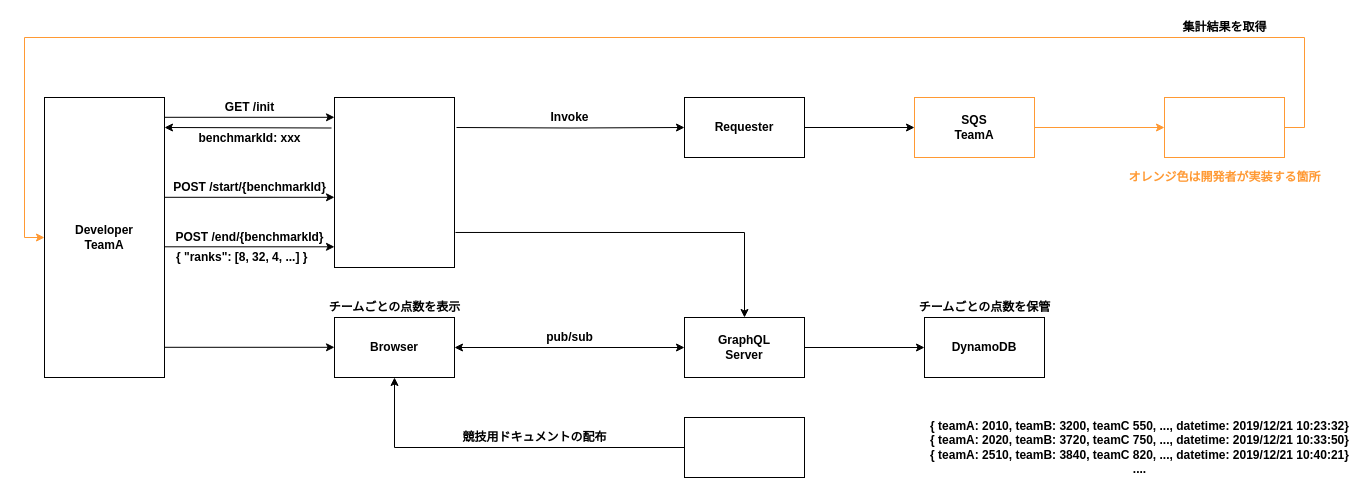
This 1372x495 diagram has some shape labels left out. Here are the shapes that lost their labels. From the top down, the centre of each, then its label:
At [1224,127]: "Design it! TeamA".
At [394,182]: "API".
At [744,447]: "S3".
